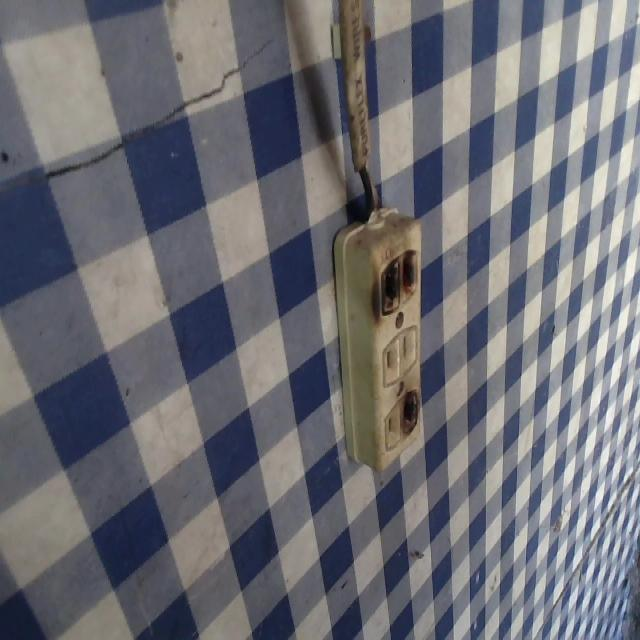-: (371, 247, 422, 314), (394, 388, 421, 437)
